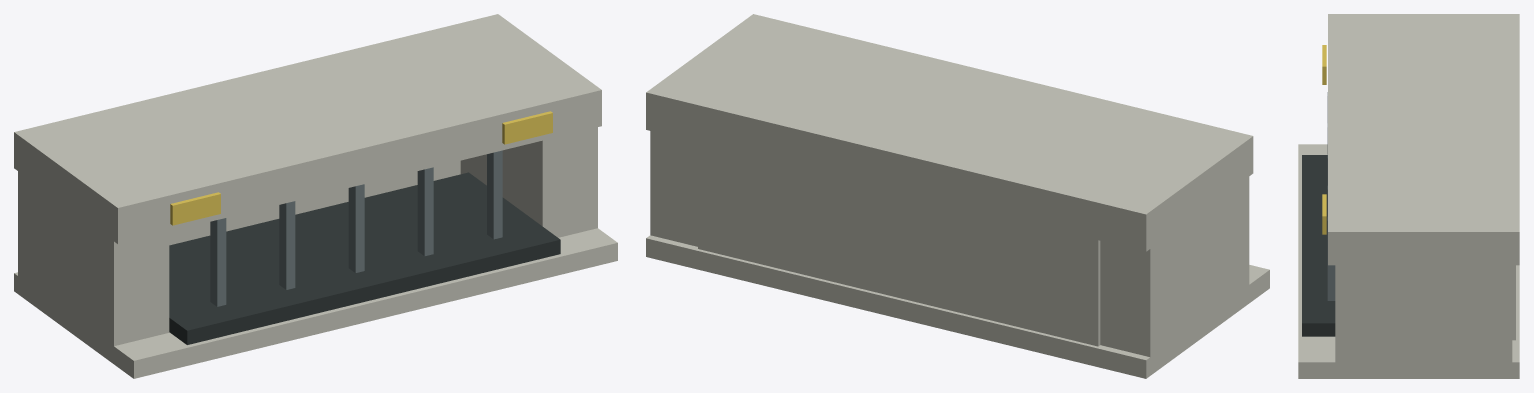
The model's file is Curb_Drain_Inlet.fbx.
3 views of the same model, side by side, from view 1: azimuth 30°, elevation 25°; view 2: azimuth 150°, elevation 25°; view 3: azimuth 270°, elevation 25° (orthographic). The views are drawn at different scales.
Visible parts, largest first — view 1: Curb_Drain_Inlet_Mesh; view 2: Curb_Drain_Inlet_Mesh; view 3: Curb_Drain_Inlet_Mesh.
Part boxes in pixels (x1,y1,x2,y2): Curb_Drain_Inlet_Mesh: (14, 14, 617, 378); Curb_Drain_Inlet_Mesh: (646, 14, 1269, 378); Curb_Drain_Inlet_Mesh: (1298, 14, 1519, 378).
Bounding box in the file's own units: 140 × 44 × 60.
